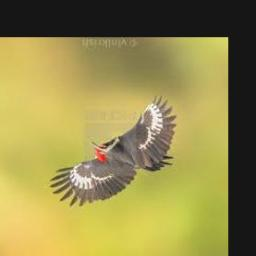Woodpecker: (49, 95, 177, 207)
